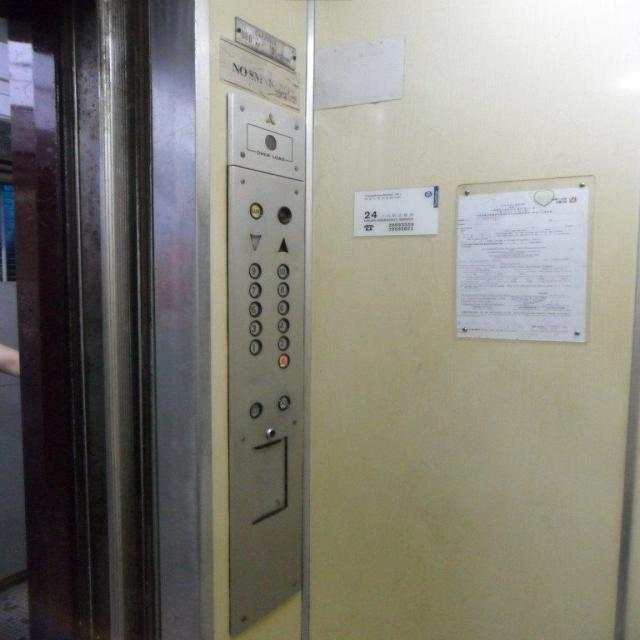1: (247, 338, 263, 355)
10: (274, 262, 291, 280)
2: (276, 334, 289, 350)
3: (246, 319, 262, 337)
4: (275, 317, 290, 334)
5: (246, 300, 262, 318)
6: (275, 298, 290, 316)
7: (246, 280, 262, 298)
8: (274, 280, 291, 298)
9: (246, 260, 262, 280)
UG: (276, 352, 289, 368)
blur: (246, 401, 264, 418), (275, 394, 291, 411), (264, 427, 278, 440)
empty: (274, 203, 294, 226)
text: (246, 201, 264, 221)
